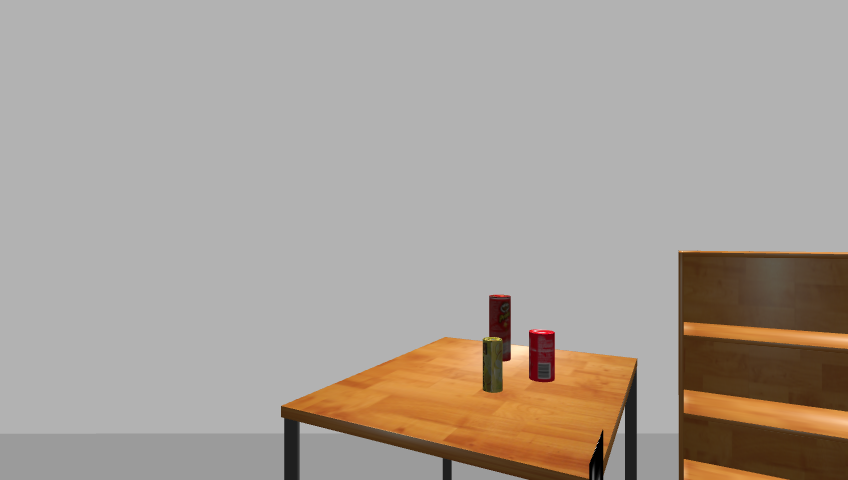aruco marker: (587, 431, 607, 480)
biscuits pack: (481, 337, 504, 393)
bookshelf: (673, 249, 848, 479)
coke can: (528, 329, 557, 383)
dinner table: (274, 337, 646, 480)
pringles can: (486, 293, 513, 363)
